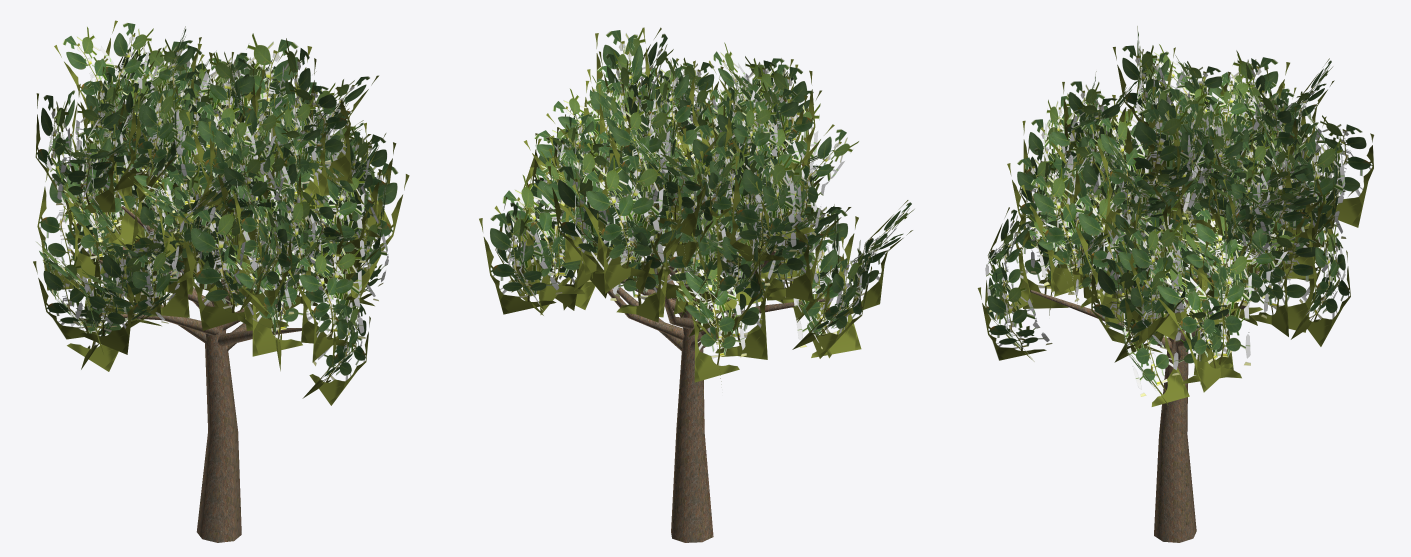
The model's file is tree_oak.glb.
The picture shows the model from 3 angles, left to right: view 1: azimuth 30°, elevation 25°; view 2: azimuth 150°, elevation 25°; view 3: azimuth 270°, elevation 25°; orthographic projection. The views are drawn at different scales.
Visible parts, largest first — view 1: foliage, trunk; view 2: foliage, trunk; view 3: foliage, trunk.
Part boxes in pixels (x1,y1,x2,y2): foliage: (33,20,409,405); trunk: (91,206,344,542); foliage: (479,27,914,382); trunk: (607,216,825,542); foliage: (977,26,1373,406); trunk: (1030,195,1303,542).
Bounding box in the file's own units: 8.36 × 10.01 × 8.42.
2 materials, 2 textured.
